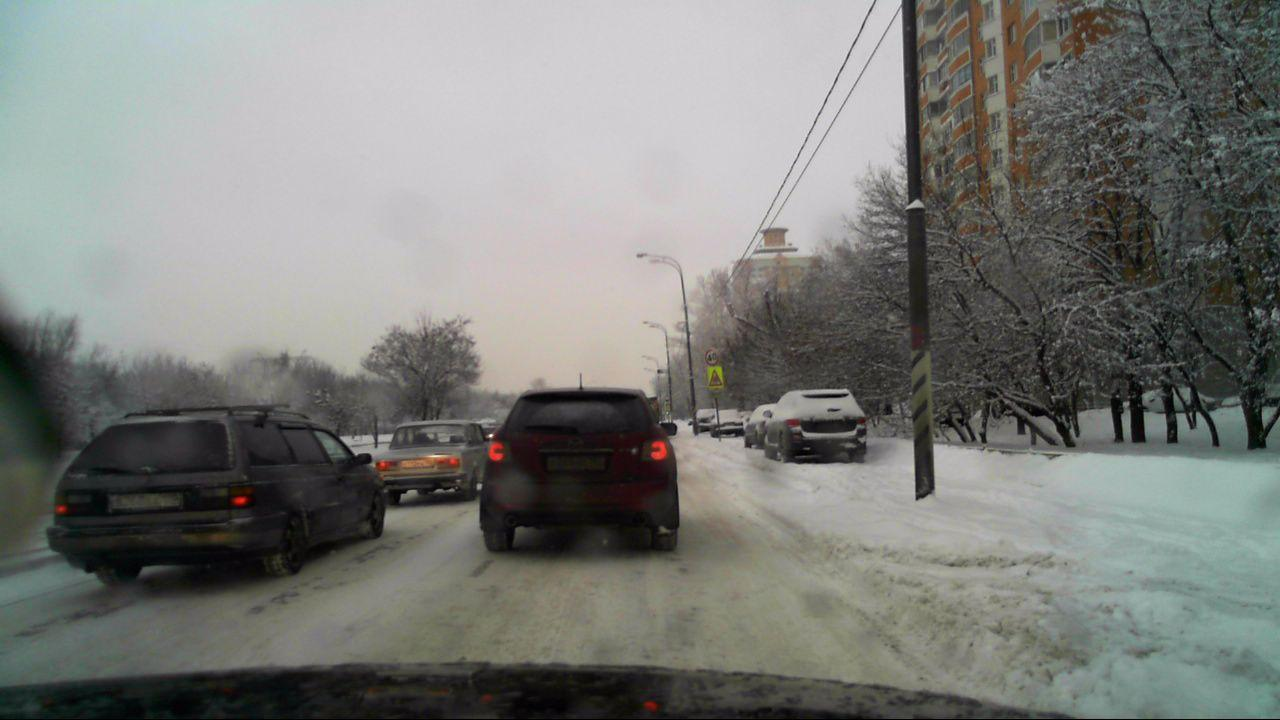road_sign: (707, 366, 723, 388), (704, 348, 720, 366)
